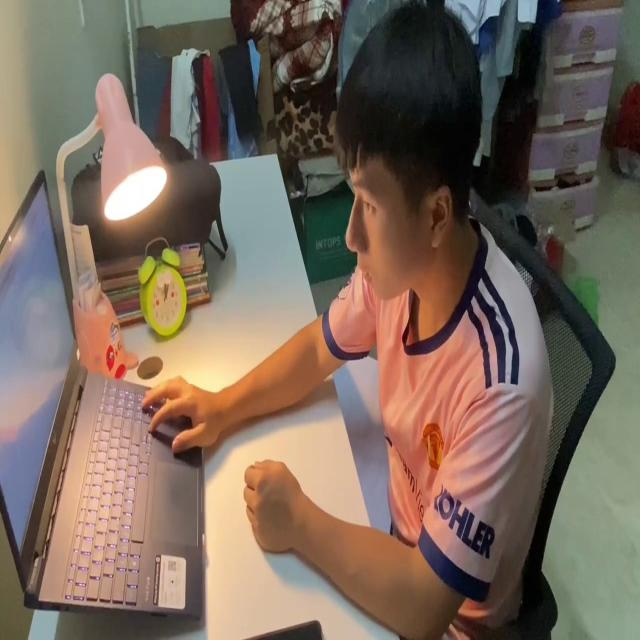book: (333, 342, 391, 542)
laptop: (0, 160, 206, 627)
phone: (244, 615, 322, 640)
student: (138, 6, 554, 640)
